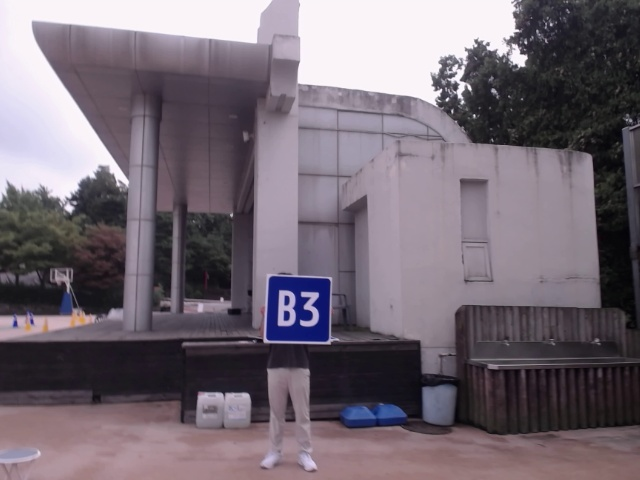delivery_b3: (267, 275, 333, 344)
